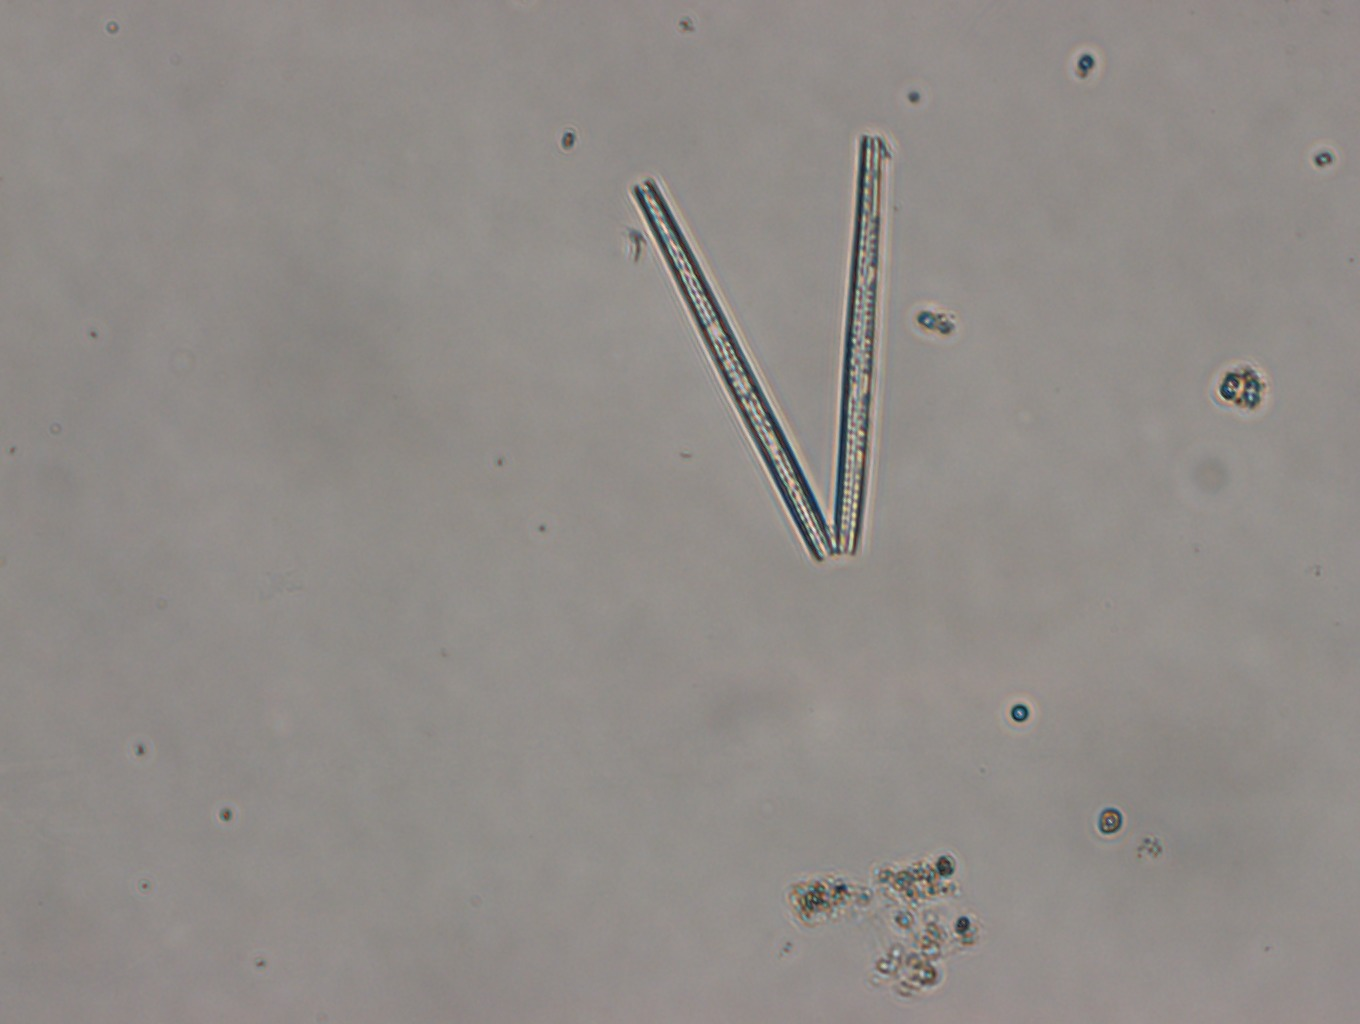thalassionema frauenfeldii: (627, 134, 887, 563)
